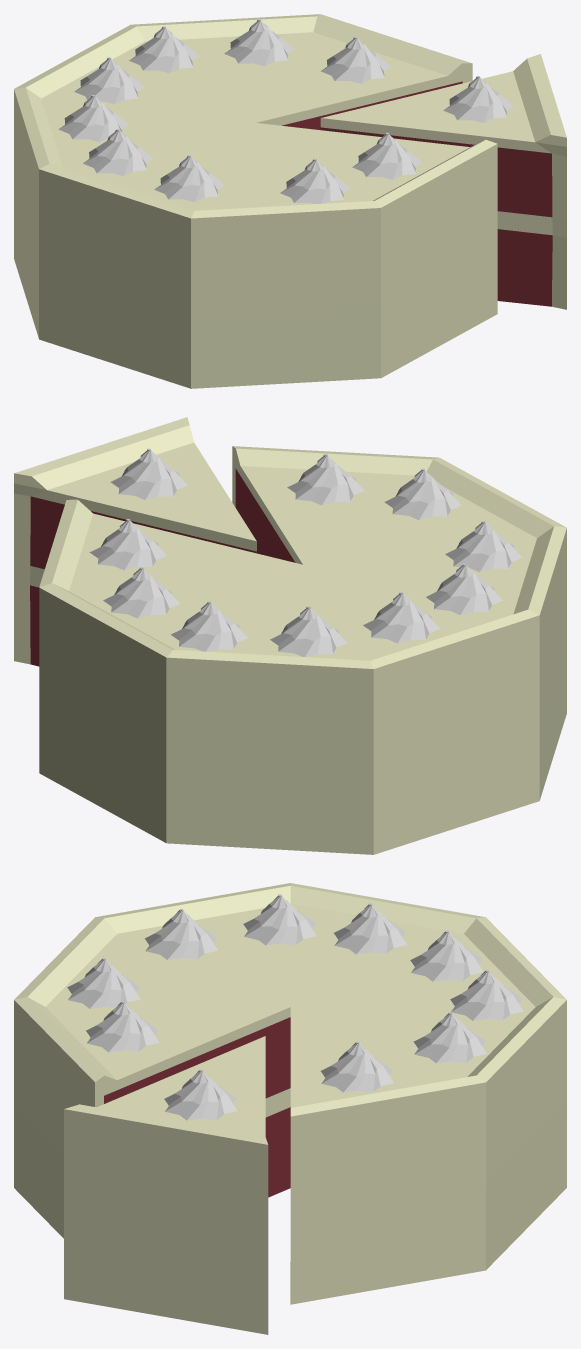
Rendered from Cake_Asam-Manis_Strawbery-Shortcake.fbx.
3 views of the same model, one above another, from view 1: azimuth 30°, elevation 25°; view 2: azimuth 150°, elevation 25°; view 3: azimuth 270°, elevation 25° (orthographic). The views are drawn at different scales.
Parts seen in each view (by area): view 1: Cylinder, Cylinder.001, Cylinder.007, Cylinder.003, Cylinder.004, Cylinder.009, Cylinder.010, Cylinder.006, Cylinder.008, Cylinder.005, Cylinder.011, Cylinder.002; view 2: Cylinder, Cylinder.001, Cylinder.003, Cylinder.007, Cylinder.010, Cylinder.005, Cylinder.011, Cylinder.006, Cylinder.002, Cylinder.009, Cylinder.008, Cylinder.004; view 3: Cylinder, Cylinder.001, Cylinder.010, Cylinder.008, Cylinder.009, Cylinder.002, Cylinder.007, Cylinder.004, Cylinder.011, Cylinder.003, Cylinder.006, Cylinder.005.
Part boxes in pixels (<box>): Cylinder: <box>14,14,497,388</box>; Cylinder.001: <box>320,54,566,309</box>; Cylinder.007: <box>443,76,513,122</box>; Cylinder.003: <box>83,129,152,175</box>; Cylinder.004: <box>154,155,224,202</box>; Cylinder.009: <box>224,19,294,66</box>; Cylinder.010: <box>129,26,198,73</box>; Cylinder.006: <box>352,132,422,179</box>; Cylinder.008: <box>320,36,390,83</box>; Cylinder.005: <box>280,158,349,204</box>; Cylinder.011: <box>74,57,144,104</box>; Cylinder.002: <box>58,95,128,141</box>; Cylinder: <box>39,446,566,854</box>; Cylinder.001: <box>14,417,256,666</box>; Cylinder.003: <box>426,563,502,615</box>; Cylinder.007: <box>110,448,187,499</box>; Cylinder.010: <box>170,601,247,651</box>; Cylinder.005: <box>384,468,461,520</box>; Cylinder.011: <box>270,606,346,657</box>; Cylinder.006: <box>287,454,364,505</box>; Cylinder.002: <box>363,592,439,643</box>; Cylinder.009: <box>103,567,179,618</box>; Cylinder.008: <box>89,519,166,570</box>; Cylinder.004: <box>445,520,522,572</box>; Cylinder: <box>14,883,566,1304</box>; Cylinder.001: <box>64,1036,268,1334</box>; Cylinder.010: <box>450,969,523,1020</box>; Cylinder.008: <box>320,1041,393,1092</box>; Cylinder.009: <box>413,1012,486,1063</box>; Cylinder.002: <box>333,903,406,954</box>; Cylinder.007: <box>164,1069,237,1120</box>; Cylinder.004: <box>144,908,217,959</box>; Cylinder.011: <box>410,930,483,981</box>; Cylinder.003: <box>243,894,316,945</box>; Cylinder.006: <box>86,1001,159,1052</box>; Cylinder.005: <box>67,957,140,1008</box>.
Size of the model in its own units: 372 by 141 by 328.
